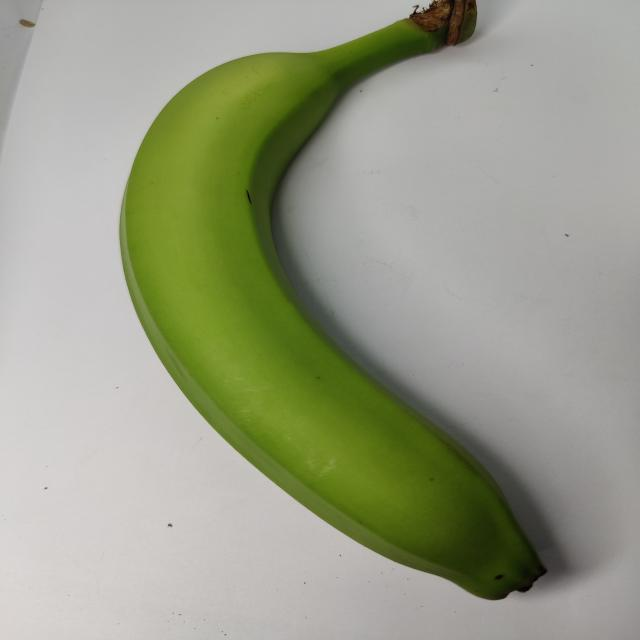raw: (66, 5, 595, 611)
